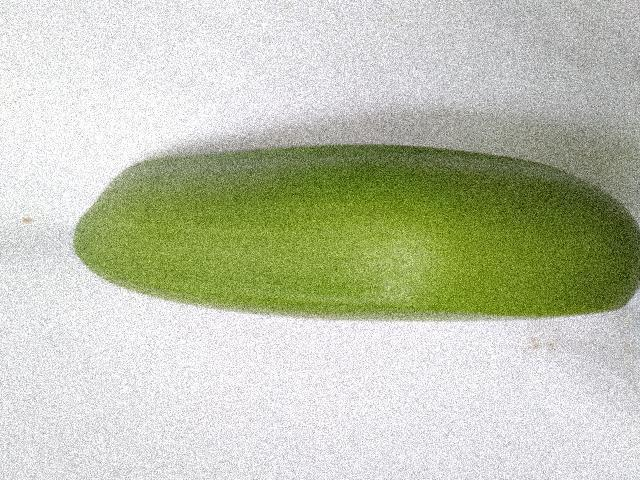freshunripe: (60, 125, 639, 350)
